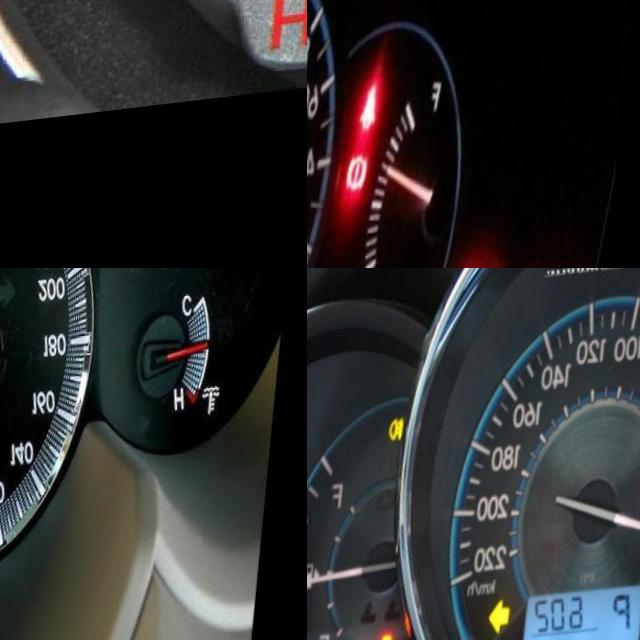Seat Belt: (362, 93, 387, 142)
